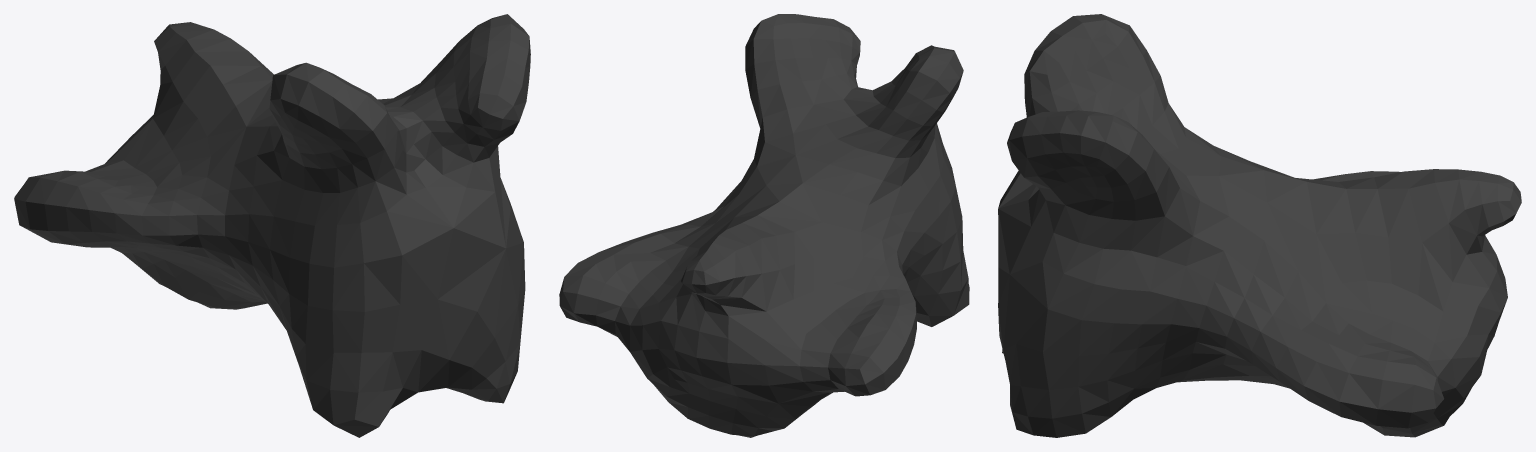
The picture shows the model from 3 angles, left to right: view 1: azimuth 30°, elevation 25°; view 2: azimuth 150°, elevation 25°; view 3: azimuth 270°, elevation 25°; orthographic projection. The views are drawn at different scales.
Visible parts, largest first — view 1: Co5; view 2: Co5; view 3: Co5.
Part boxes in pixels (x1,y1,x2,y2): Co5: [14, 14, 530, 437]; Co5: [559, 14, 969, 437]; Co5: [998, 14, 1521, 437].
Size of the model in its own units: 1.23 by 1.03 by 1.34.
1 material, 1 textured.
